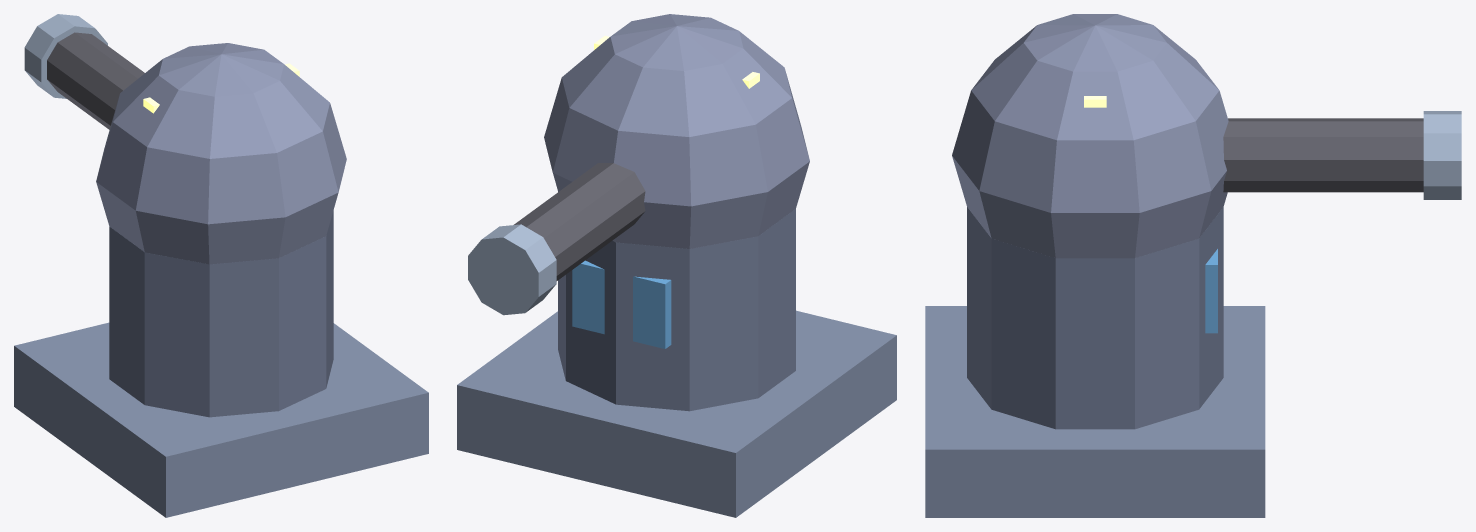
File: hero_turret.glb
The picture shows the model from 3 angles, left to right: view 1: azimuth 30°, elevation 25°; view 2: azimuth 150°, elevation 25°; view 3: azimuth 270°, elevation 25°; orthographic projection. The views are drawn at different scales.
Parts seen in each view (by area): view 1: hero_turret; view 2: hero_turret; view 3: hero_turret.
Boxes of the visible parts, <box> form: hero_turret: <box>14,14,428,517</box>; hero_turret: <box>457,14,896,517</box>; hero_turret: <box>925,14,1461,517</box>.
Size of the model in its own units: 0.9 by 1.23 by 1.42.
